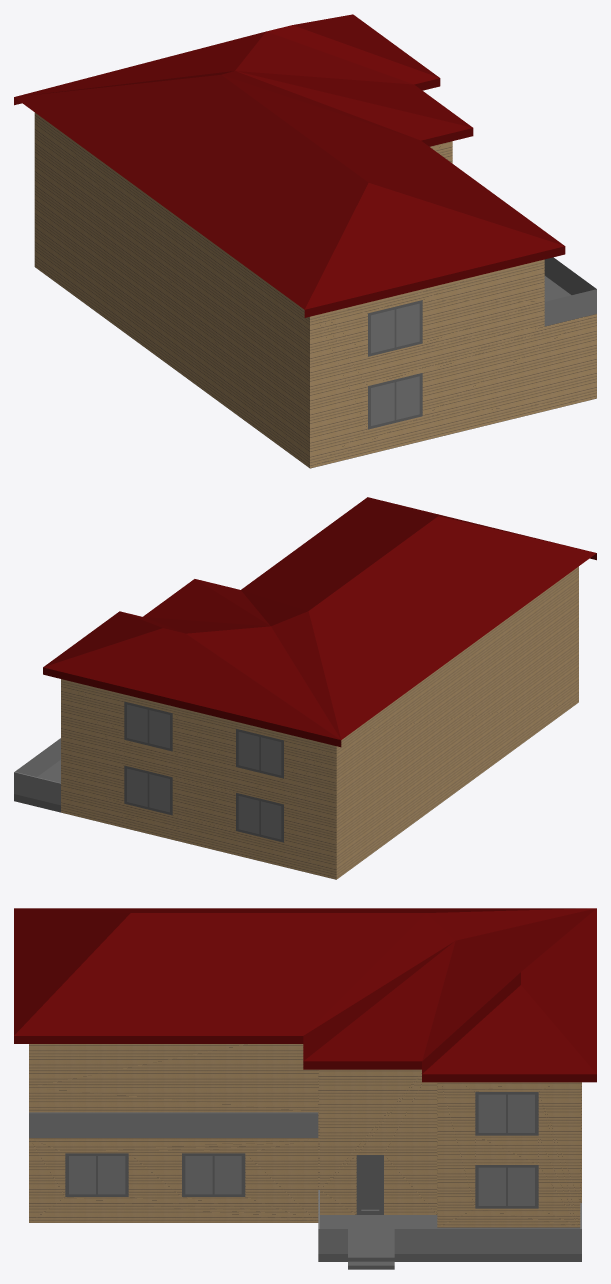
File: houses2.fbx
3 views of the same model, one above another, from view 1: azimuth 30°, elevation 25°; view 2: azimuth 150°, elevation 25°; view 3: azimuth 270°, elevation 25° (orthographic). The views are drawn at different scales.
Visible parts, largest first — view 1: Group1; view 2: Group1; view 3: Group1.
Part boxes in pixels (box(x1,y1,x2,y2)): Group1: box(14, 14, 596, 468); Group1: box(14, 497, 596, 879); Group1: box(14, 908, 596, 1269).
Size of the model in its own units: 1512 by 812 by 1924.
